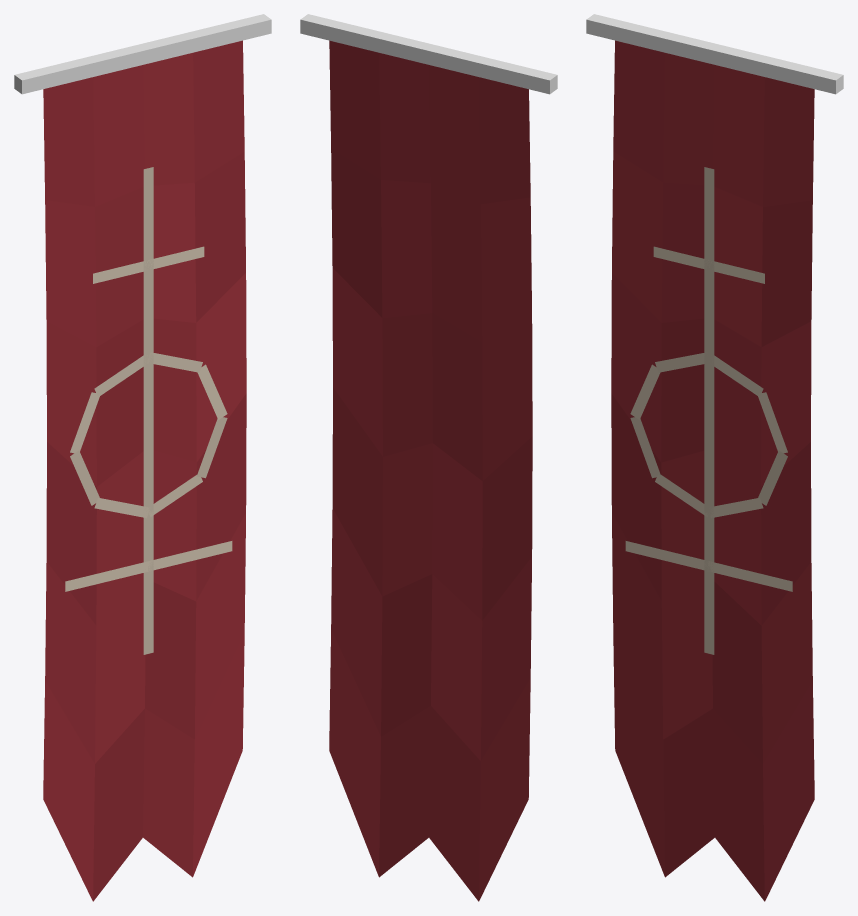
The model's file is Banner_Hanging.fbx.
3 renders of one model, left to right at view 1: azimuth 30°, elevation 25°; view 2: azimuth 150°, elevation 25°; view 3: azimuth 330°, elevation 25°, orthographic.
Visible parts, largest first — view 1: Banner_Hanging; view 2: Banner_Hanging; view 3: Banner_Hanging.
Boxes of the visible parts, x1=… form: Banner_Hanging: x1=14, y1=14, x2=271, y2=901; Banner_Hanging: x1=300, y1=14, x2=557, y2=901; Banner_Hanging: x1=586, y1=14, x2=843, y2=901.
Size of the model in its own units: 1.5 by 4.84 by 0.1.
